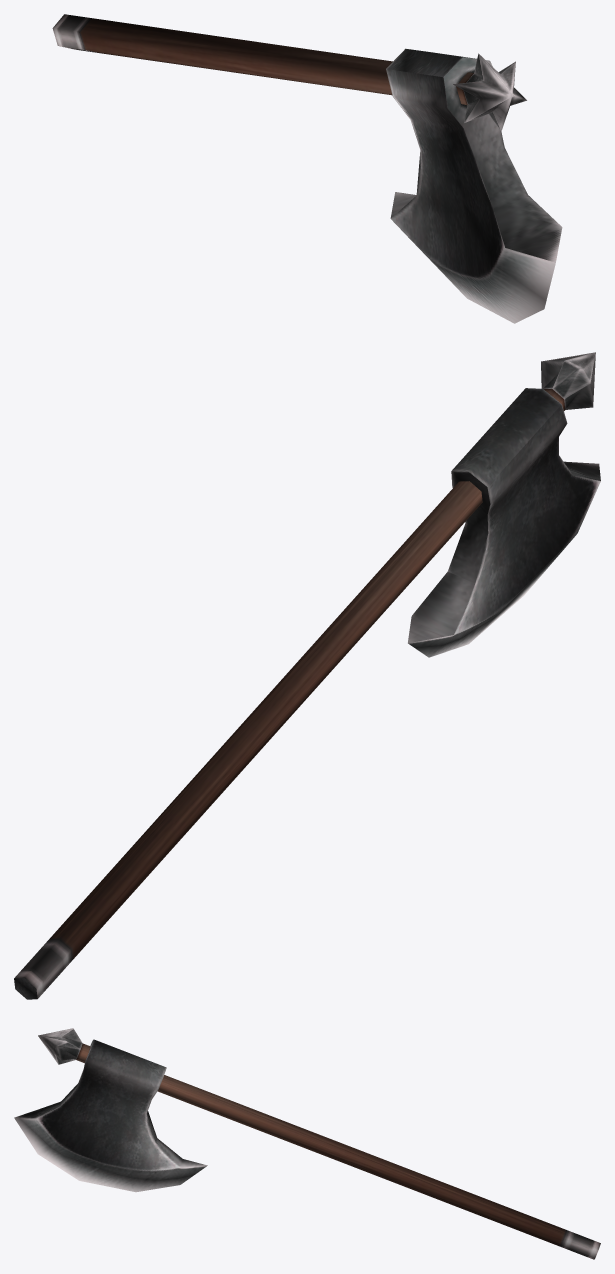
Rendered from Berserker-righthandweapon00.FBX.
3 renders of one model, top to bottom at view 1: azimuth 30°, elevation 25°; view 2: azimuth 150°, elevation 25°; view 3: azimuth 270°, elevation 25°, orthographic. The views are drawn at different scales.
Parts seen in each view (by area): view 1: new_pivot_axe00; view 2: new_pivot_axe00; view 3: new_pivot_axe00.
Part boxes in pixels (<box>): new_pivot_axe00: <box>52,14,562,323</box>; new_pivot_axe00: <box>14,352,600,999</box>; new_pivot_axe00: <box>14,1028,600,1259</box>.
Size of the model in its own units: 34.92 by 85.43 by 224.
